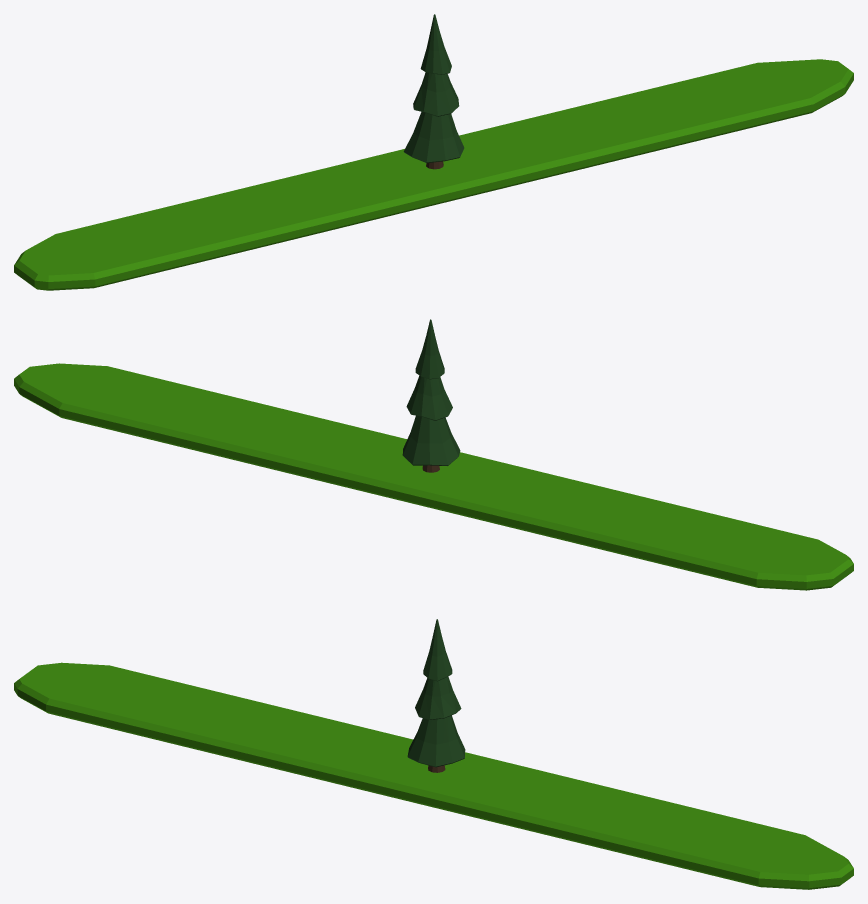
Rendered from tree.glb.
3 renders of one model, top to bottom at view 1: azimuth 30°, elevation 25°; view 2: azimuth 150°, elevation 25°; view 3: azimuth 330°, elevation 25°, orthographic.
Visible parts, largest first — view 1: Куб, Tree_4; view 2: Куб, Tree_4; view 3: Куб, Tree_4.
Part boxes in pixels (box(x1,y1,x2,y2)): Куб: box(14, 59, 853, 290); Tree_4: box(403, 14, 464, 169); Куб: box(14, 363, 853, 590); Tree_4: box(402, 319, 460, 472); Куб: box(14, 662, 853, 889); Tree_4: box(407, 619, 465, 772).
Bounding box in the file's own units: 17.56 × 3.36 × 2.
